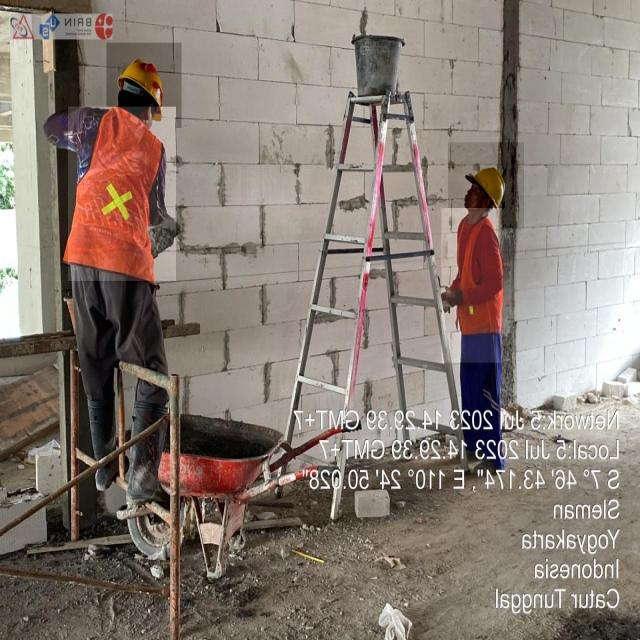Helmet: (448, 142, 524, 228), (106, 43, 182, 128)
Safety Vest: (68, 107, 176, 281), (442, 208, 502, 363)
